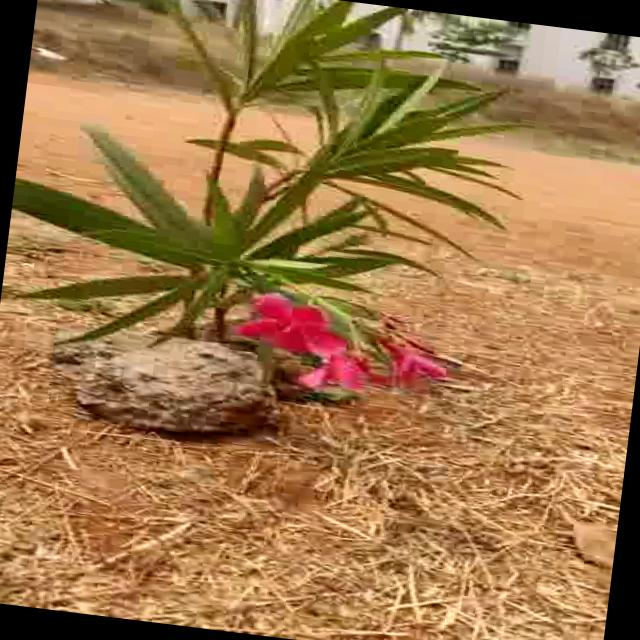Oleander: (27, 0, 570, 362)
